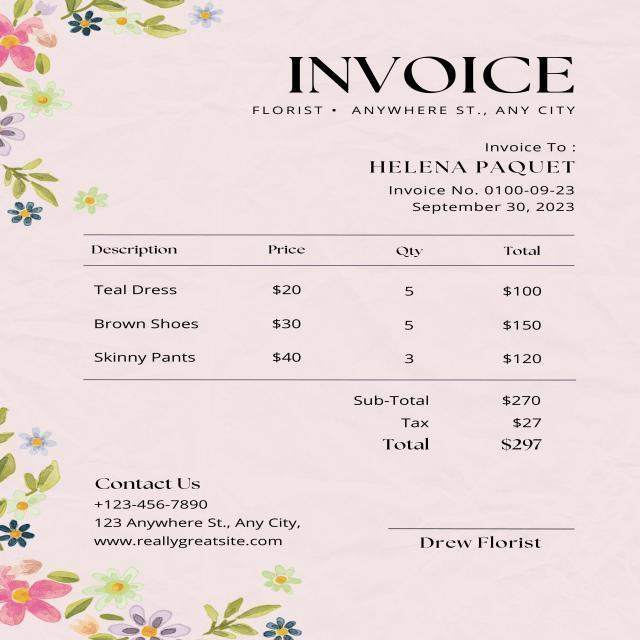ROI: (84, 233, 560, 375), (245, 48, 582, 121), (360, 133, 582, 218), (85, 469, 309, 552), (347, 382, 557, 459), (413, 527, 545, 558)
